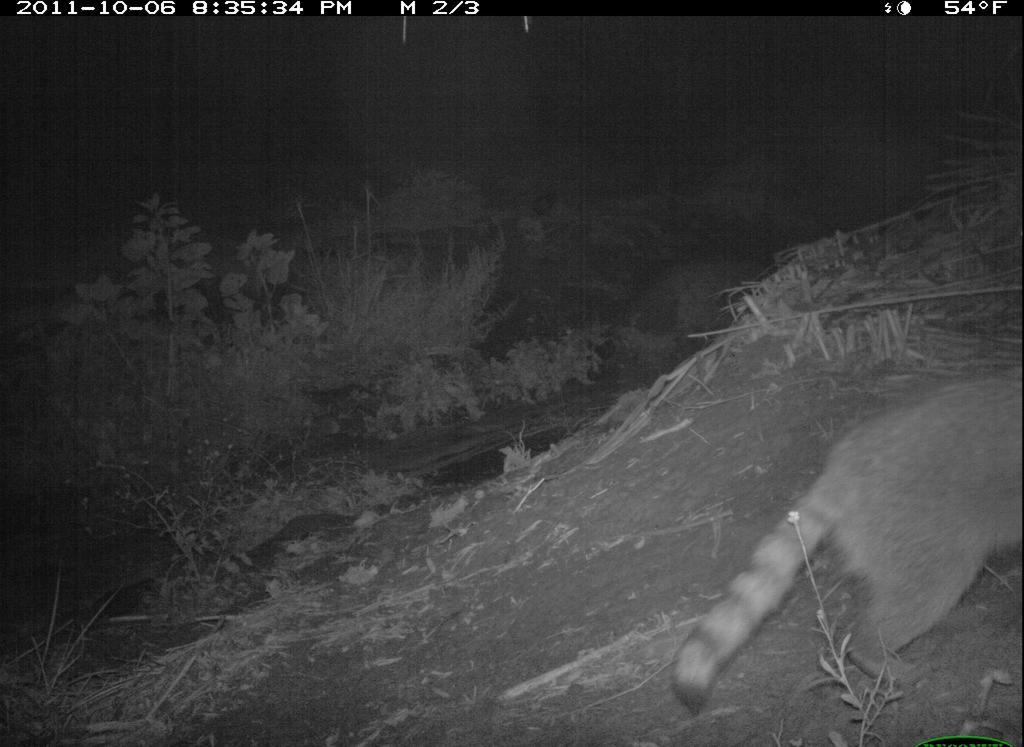raccoon: (667, 365, 1021, 722)
